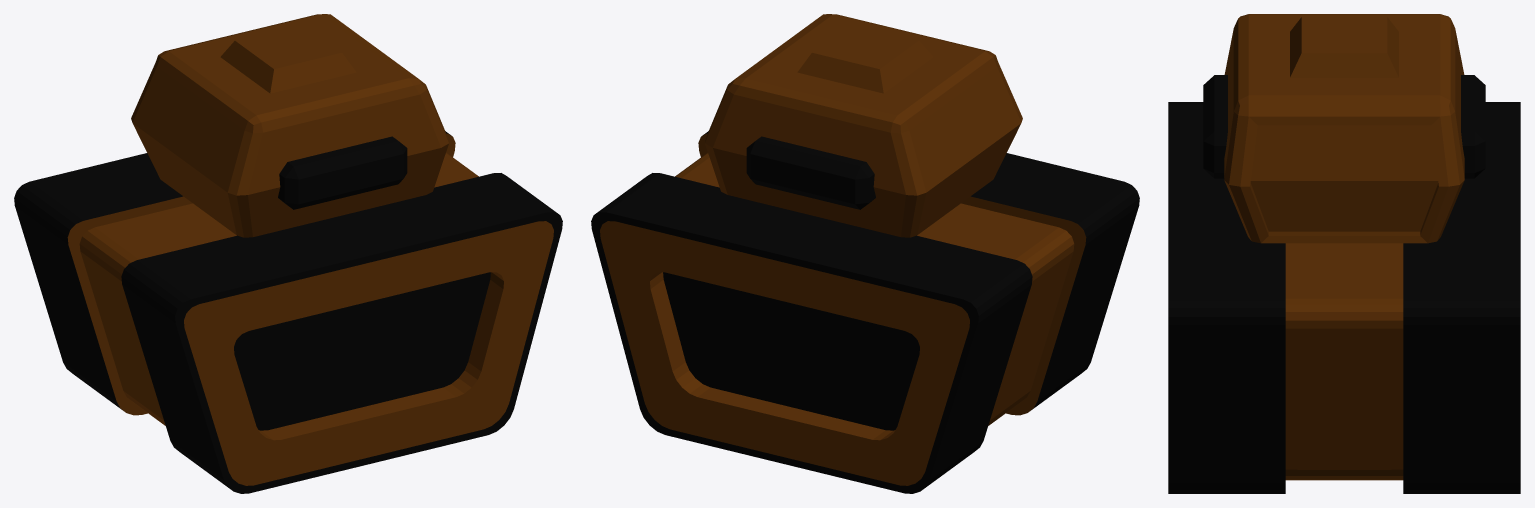
The model's file is tank_body.fbx.
3 views of the same model, side by side, from view 1: azimuth 30°, elevation 25°; view 2: azimuth 150°, elevation 25°; view 3: azimuth 270°, elevation 25° (orthographic). The views are drawn at different scales.
Parts seen in each view (by area): view 1: body; view 2: body; view 3: body.
Part boxes in pixels (x1=…): body: x1=14, y1=14, x2=562, y2=493; body: x1=591, y1=14, x2=1139, y2=493; body: x1=1168, y1=14, x2=1520, y2=493.
Size of the model in its own units: 195 by 172 by 140.
